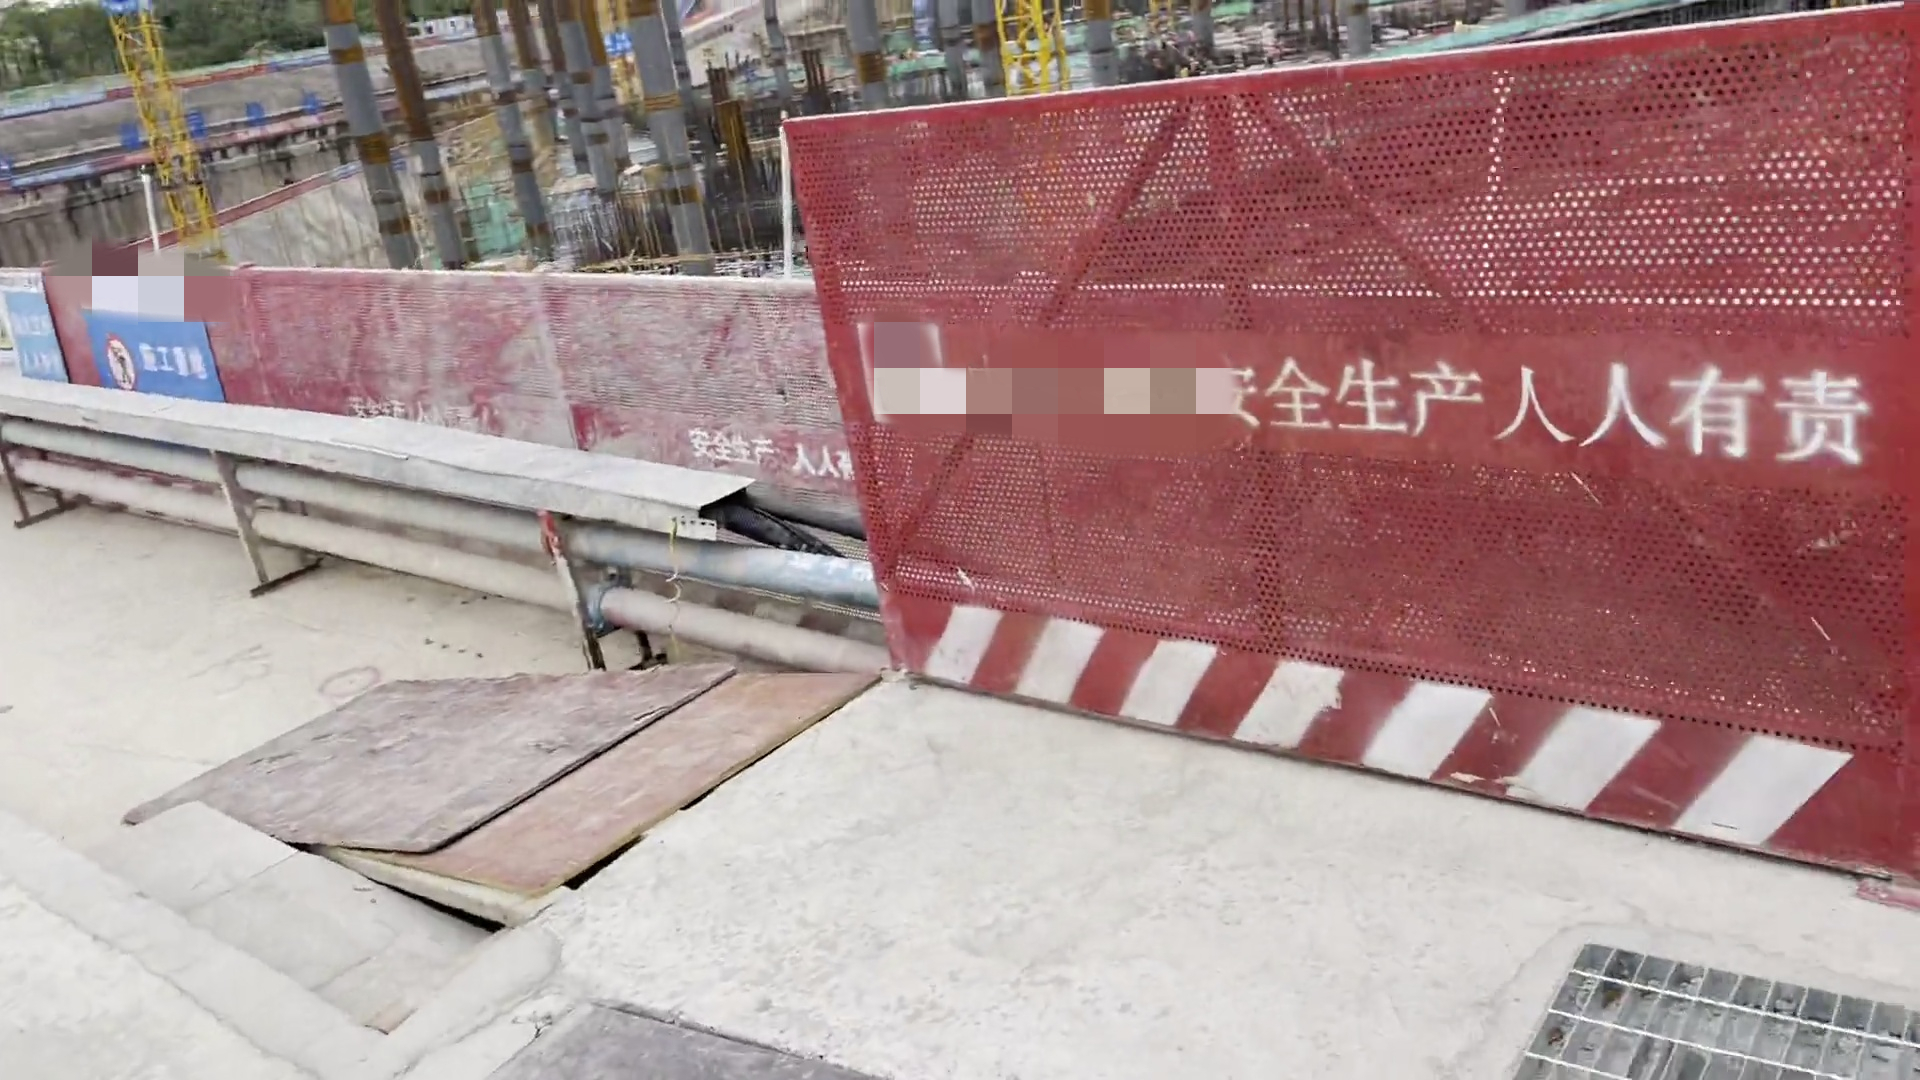board: (98, 665, 887, 932)
fence: (775, 1, 1920, 877), (71, 251, 884, 600)
slogan: (75, 295, 229, 409), (1, 255, 79, 400), (584, 30, 637, 69), (95, 1, 161, 30)
